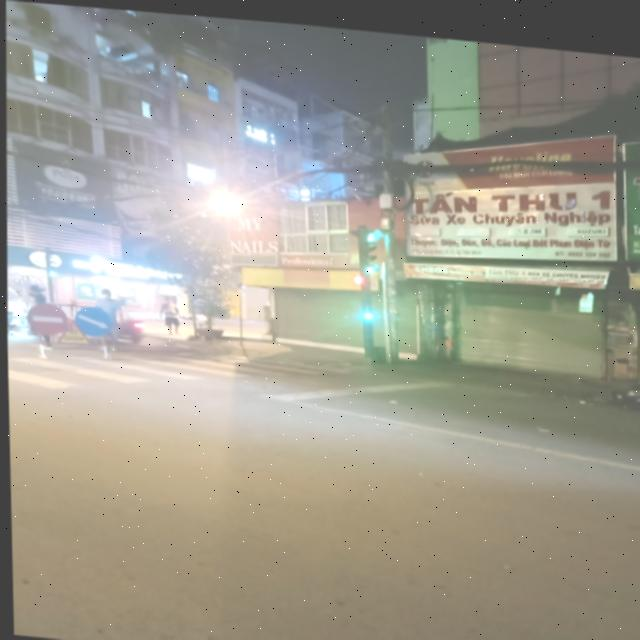Green: (354, 236, 379, 271), (357, 292, 382, 322)
